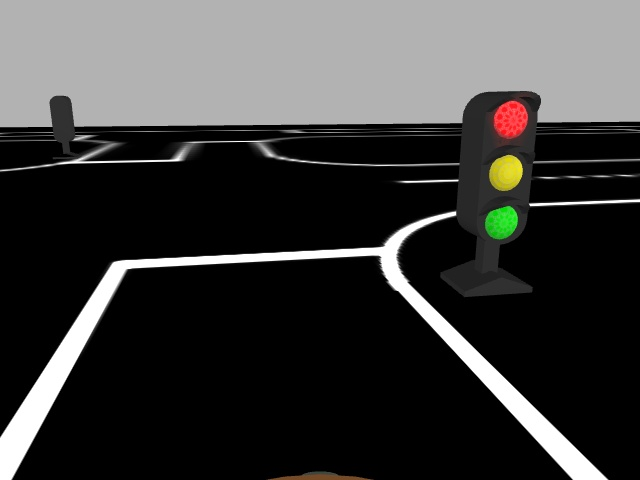red_light: (466, 90, 540, 243)
